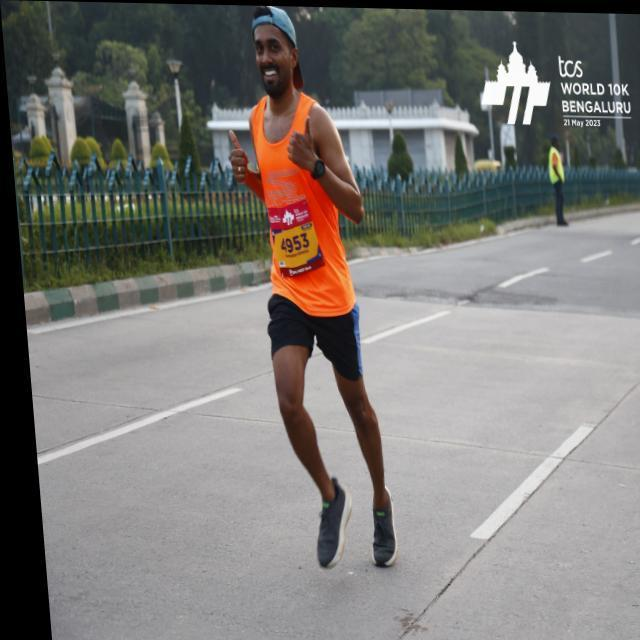dorsal: (264, 206, 324, 277)
